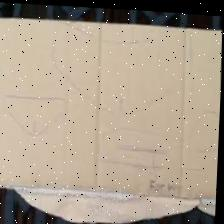cardboard: (0, 3, 224, 224)
